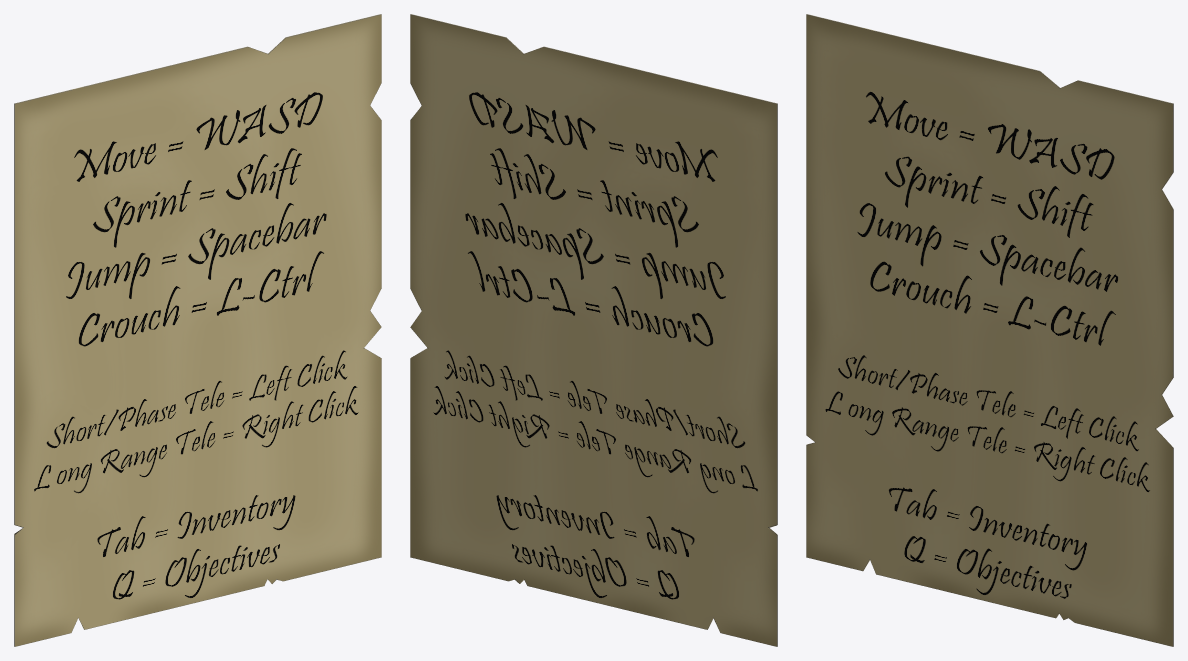
The model's file is p_note_0.fbx.
The picture shows the model from 3 angles, left to right: view 1: azimuth 30°, elevation 25°; view 2: azimuth 150°, elevation 25°; view 3: azimuth 330°, elevation 25°; orthographic projection.
Visible parts, largest first — view 1: pCube1; view 2: pCube1; view 3: pCube1.
Boxes of the visible parts, bbox=[...] form: pCube1: bbox=[14, 14, 381, 646]; pCube1: bbox=[410, 14, 777, 646]; pCube1: bbox=[806, 14, 1173, 646].
Size of the model in its own units: 42 by 59.4 by 0.1135.
